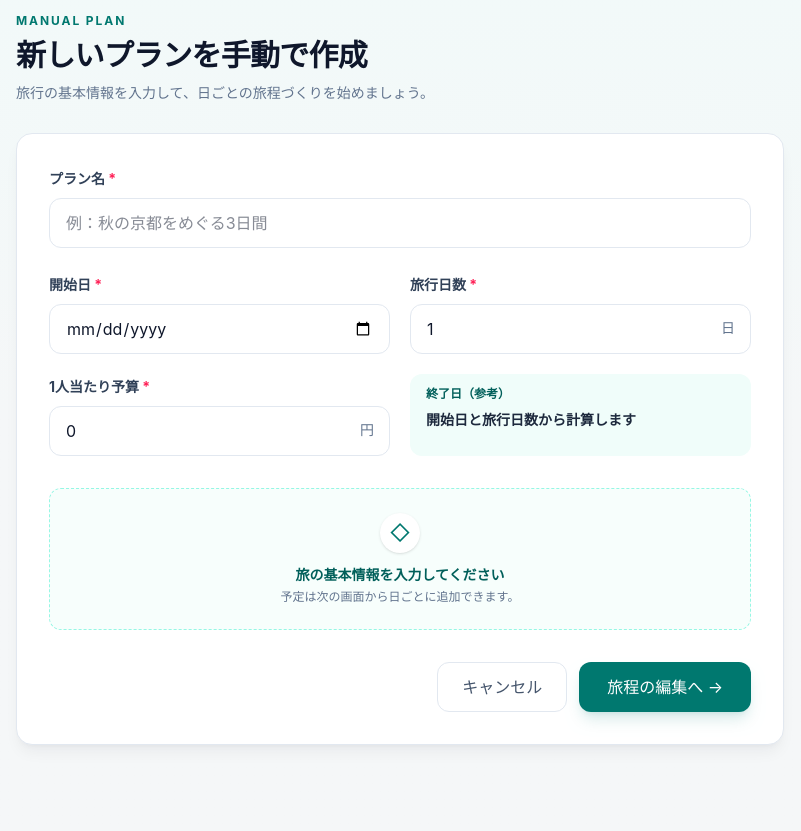
Test: 旅行プランDraftフロー › 必須項目のエラーを表示して最初の項目へフォーカスする
The width and height of the screenshot is (801, 831).
Step 1. Clear the number field labelled "旅行日数 *" → (580, 329), box [410,304,751,354]
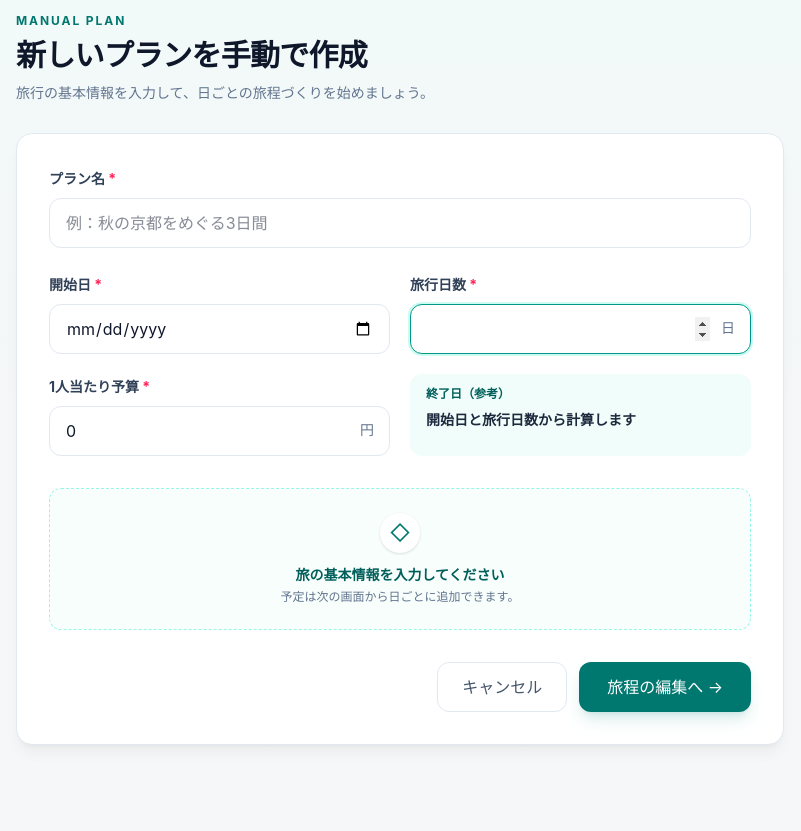
Step 2. Clear the number field labelled "1人当たり予算 *" → (220, 431), box [49,406,390,456]
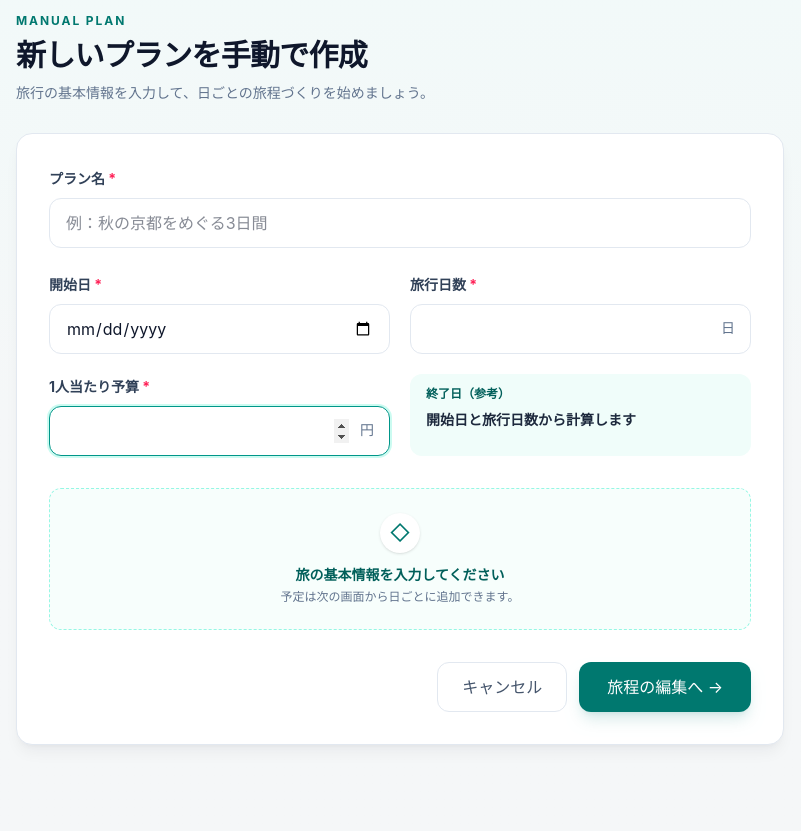
Step 3. Click the button "旅程の編集へ →" → click(665, 687), box [579,662,751,712]
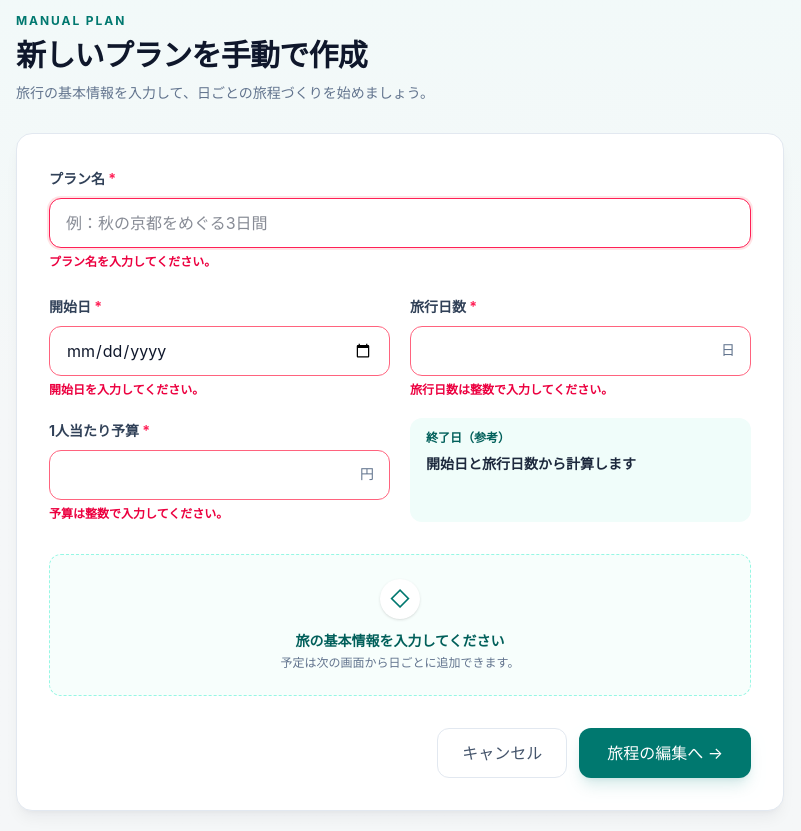
expect the text "プラン名を入力してください。" is shown: met, box [49,254,216,269]
expect the text "開始日を入力してください。" is shown: met, box [49,382,204,397]
expect the text "旅行日数は整数で入力してください。" is shown: met, box [410,382,613,397]
